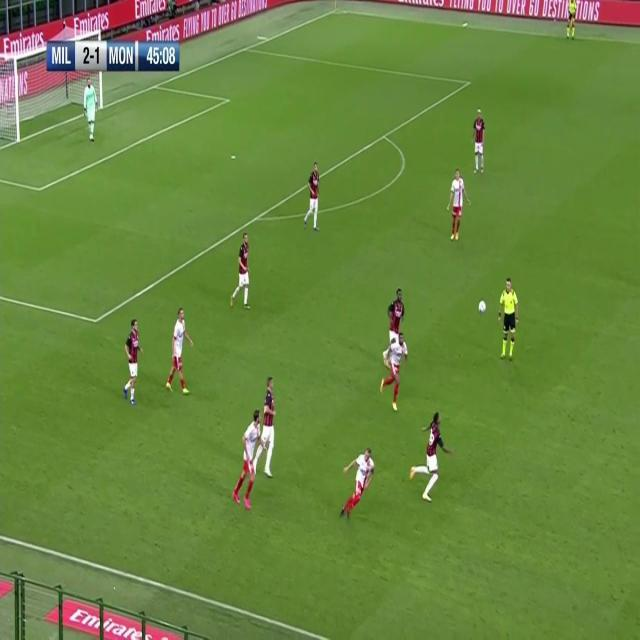ball: (477, 298, 487, 314)
player: (410, 410, 452, 504), (232, 407, 262, 509), (339, 442, 377, 522), (164, 306, 194, 396), (379, 331, 405, 415), (258, 375, 278, 478), (497, 274, 520, 362), (121, 317, 143, 407), (229, 231, 252, 311), (446, 166, 470, 242), (303, 159, 322, 233), (83, 76, 99, 142), (472, 107, 486, 177), (386, 287, 406, 333), (564, 0, 576, 41)
